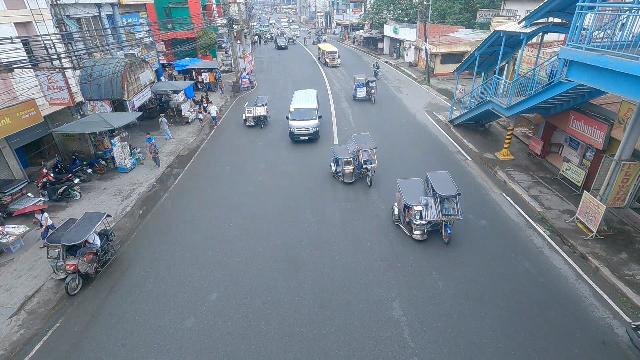car: (274, 35, 288, 50), (290, 26, 300, 38)
jeepney: (317, 43, 342, 68)
motorcycle: (371, 59, 381, 80), (303, 35, 308, 46), (263, 36, 267, 44)
van: (286, 88, 323, 146)
